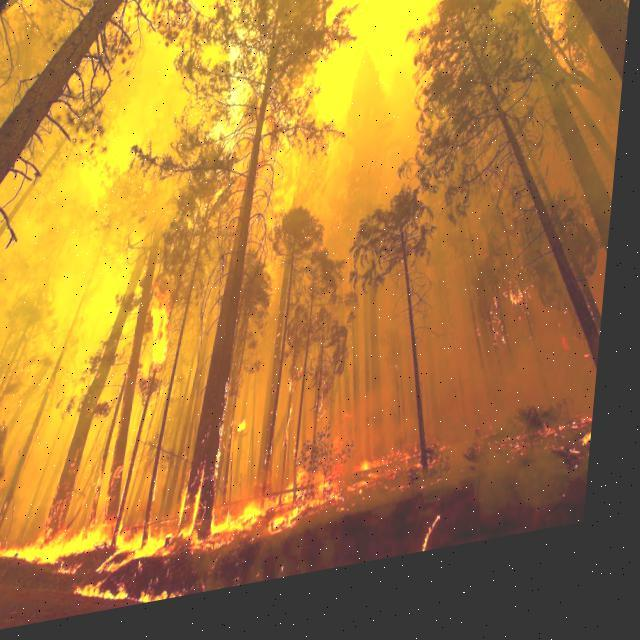Fire: (0, 459, 448, 594), (142, 274, 188, 403)
